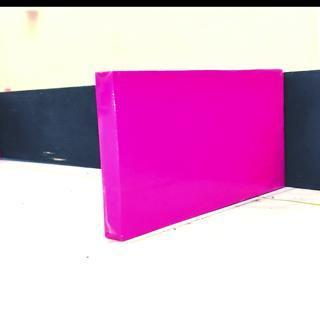xparking: (106, 76, 282, 218)
